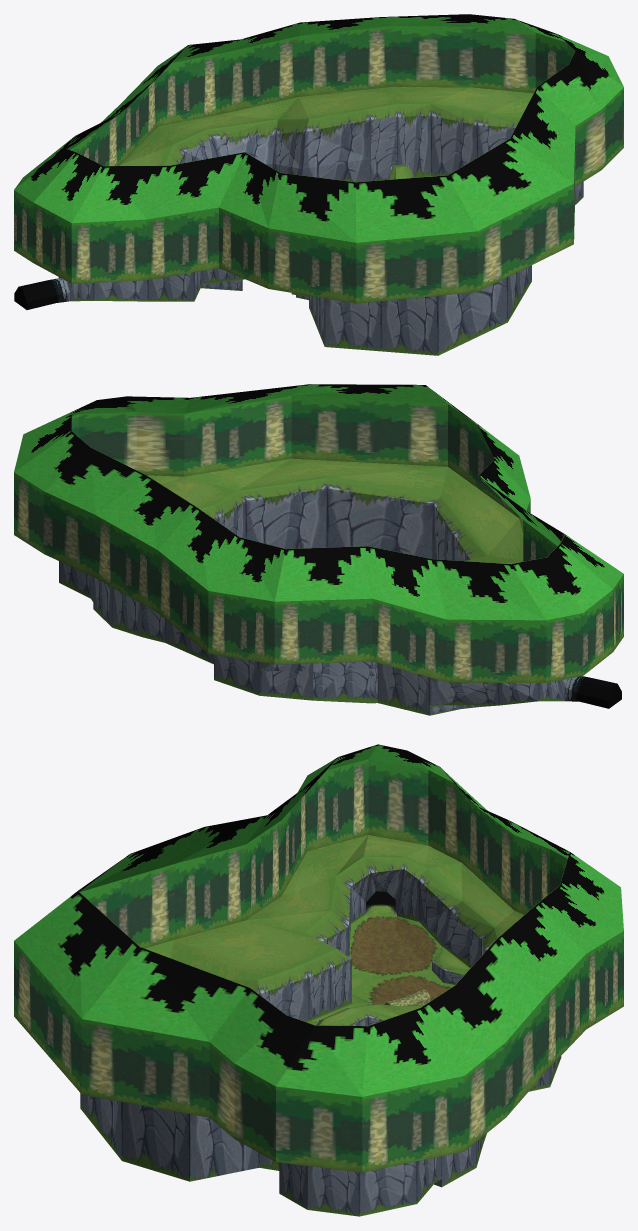
The picture shows the model from 3 angles, top to bottom: view 1: azimuth 30°, elevation 25°; view 2: azimuth 150°, elevation 25°; view 3: azimuth 270°, elevation 25°; orthographic projection. The views are drawn at different scales.
Visible parts, largest first — view 1: Forest_of_faires_c_n0b0-m2, Forest_of_faires_c_n5b5-m3, Forest_of_faires_c_n3b1-m6, Forest_of_faires_c_n5b5-Material1, Forest_of_faires_c_n6b6-m5; view 2: Forest_of_faires_c_n0b0-m2, Forest_of_faires_c_n5b5-m3, Forest_of_faires_c_n3b1-m6, Forest_of_faires_c_n5b5-Material1, Forest_of_faires_c_n6b6-m5; view 3: Forest_of_faires_c_n0b0-m2, Forest_of_faires_c_n5b5-m3, Forest_of_faires_c_n3b1-m6, Forest_of_faires_c_n1b2-m4, Forest_of_faires_c_n2b3-m5.
Part boxes in pixels (x1,y1,x2,y2): Forest_of_faires_c_n0b0-m2: (14,14,623,303); Forest_of_faires_c_n5b5-m3: (58,103,583,355); Forest_of_faires_c_n3b1-m6: (119,86,533,179); Forest_of_faires_c_n5b5-Material1: (179,117,397,180); Forest_of_faires_c_n6b6-m5: (14,278,70,309); Forest_of_faires_c_n0b0-m2: (14,384,623,682); Forest_of_faires_c_n5b5-m3: (59,478,567,715); Forest_of_faires_c_n3b1-m6: (147,458,523,563); Forest_of_faires_c_n5b5-Material1: (142,604,377,703); Forest_of_faires_c_n6b6-m5: (564,676,621,708); Forest_of_faires_c_n0b0-m2: (14,744,623,1172); Forest_of_faires_c_n5b5-m3: (80,856,561,1216); Forest_of_faires_c_n3b1-m6: (145,835,524,1025); Forest_of_faires_c_n1b2-m4: (349,914,454,1005); Forest_of_faires_c_n2b3-m5: (366,891,396,916).
Bounding box in the file's own units: 52948 × 16543 × 38695.
12 materials, 12 textured.
